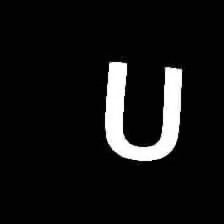LTR_U: (94, 52, 189, 169)
